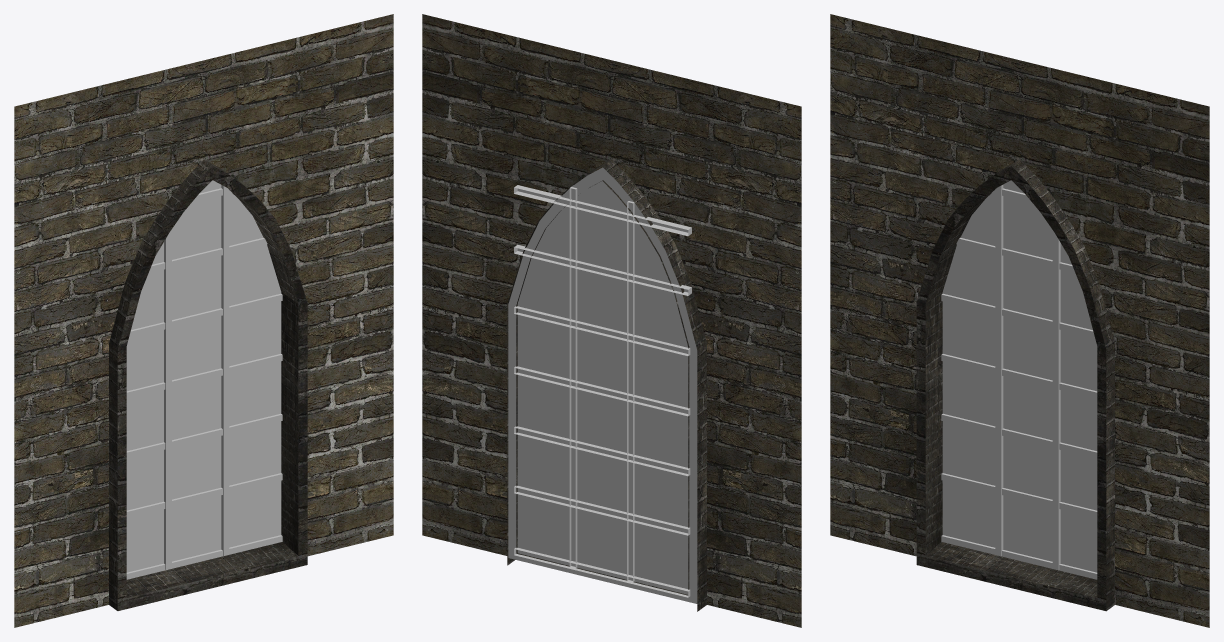
File: courtyard_outside_wall_window_large.dae
The picture shows the model from 3 angles, left to right: view 1: azimuth 30°, elevation 25°; view 2: azimuth 150°, elevation 25°; view 3: azimuth 330°, elevation 25°; orthographic projection.
Parts seen in each view (by area): view 1: polySurface5, pCube10, polySurface6, pCube19, pCube18, pCube14, pCube13, pCube11, pCube15, pCube12, pCube16; view 2: polySurface5, pCube10, polySurface6, pCube19, pCube18, pCube17, pCube16, pCube14, pCube13, pCube11, pCube15, pCube12; view 3: polySurface5, pCube10, polySurface6, pCube18, pCube19, pCube14, pCube11, pCube13, pCube15, pCube12, pCube16.
Boxes of the visible parts, x1=… form: polySurface5: x1=14, y1=14, x2=393, y2=627; pCube10: x1=126, y1=180, x2=281, y2=572; polySurface6: x1=109, y1=160, x2=307, y2=610; pCube19: x1=221, y1=185, x2=229, y2=556; pCube18: x1=164, y1=229, x2=171, y2=569; pCube14: x1=126, y1=354, x2=282, y2=398; pCube13: x1=126, y1=413, x2=282, y2=458; pCube11: x1=126, y1=473, x2=282, y2=517; pCube15: x1=129, y1=293, x2=282, y2=338; pCube12: x1=126, y1=535, x2=282, y2=579; pCube16: x1=149, y1=237, x2=267, y2=272; polySurface5: x1=422, y1=14, x2=801, y2=627; pCube10: x1=508, y1=167, x2=697, y2=603; polySurface6: x1=507, y1=160, x2=706, y2=611; pCube19: x1=569, y1=186, x2=577, y2=568; pCube18: x1=627, y1=201, x2=634, y2=582; pCube17: x1=514, y1=185, x2=691, y2=236; pCube16: x1=514, y1=244, x2=691, y2=295; pCube14: x1=514, y1=366, x2=690, y2=416; pCube13: x1=514, y1=426, x2=690, y2=476; pCube11: x1=514, y1=485, x2=690, y2=535; pCube15: x1=514, y1=306, x2=690, y2=355; pCube12: x1=514, y1=547, x2=690, y2=597; polySurface5: x1=830, y1=14, x2=1209, y2=627; pCube10: x1=942, y1=180, x2=1097, y2=572; polySurface6: x1=916, y1=160, x2=1114, y2=611; pCube18: x1=995, y1=185, x2=1003, y2=556; pCube19: x1=1052, y1=230, x2=1060, y2=570; pCube14: x1=941, y1=354, x2=1097, y2=398; pCube11: x1=941, y1=473, x2=1097, y2=517; pCube13: x1=941, y1=413, x2=1097, y2=458; pCube15: x1=941, y1=293, x2=1094, y2=338; pCube12: x1=941, y1=535, x2=1097, y2=579; pCube16: x1=956, y1=237, x2=1075, y2=272.
Bounding box in the file's own units: 4 × 5.25 × 0.3556.
